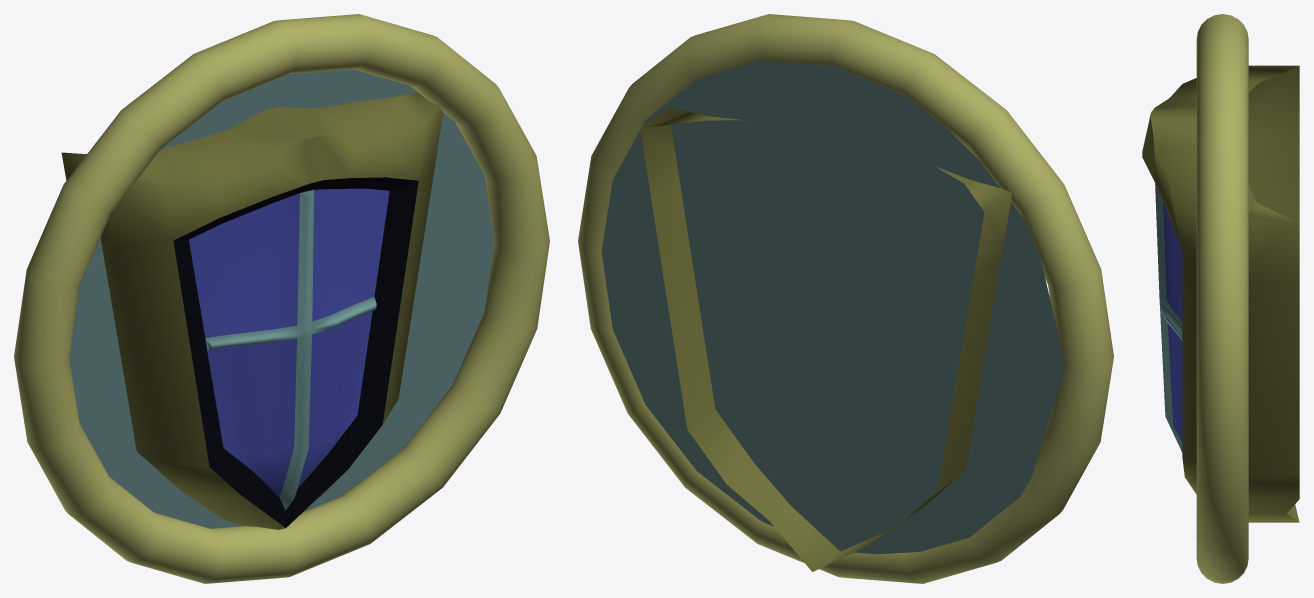
The model's file is BgMD_invincible_item_01_01.fbx.
3 renders of one model, left to right at view 1: azimuth 30°, elevation 25°; view 2: azimuth 150°, elevation 25°; view 3: azimuth 270°, elevation 25°, orthographic. The views are drawn at different scales.
Parts seen in each view (by area): view 1: pCube40; view 2: pCube40; view 3: pCube40.
Part boxes in pixels (x1,y1,x2,y2): pCube40: (14, 14, 549, 583); pCube40: (578, 14, 1113, 583); pCube40: (1142, 14, 1299, 583).
Size of the model in its own units: 151 by 151 by 41.33.
